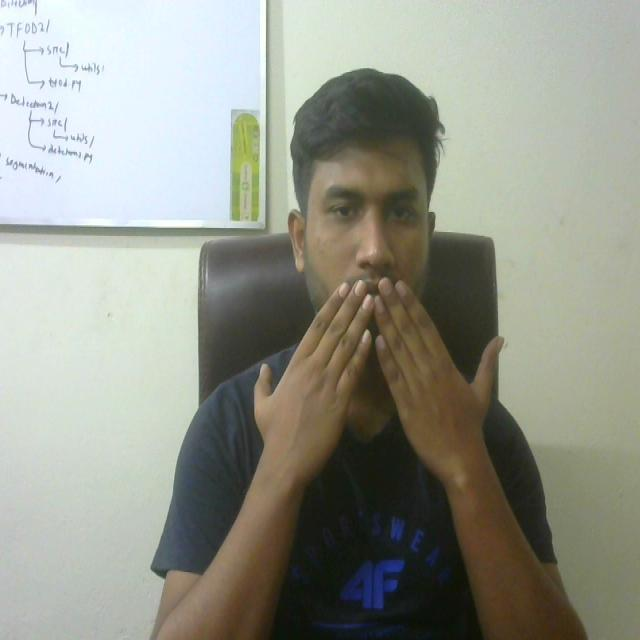Thanks: (254, 274, 507, 486)
